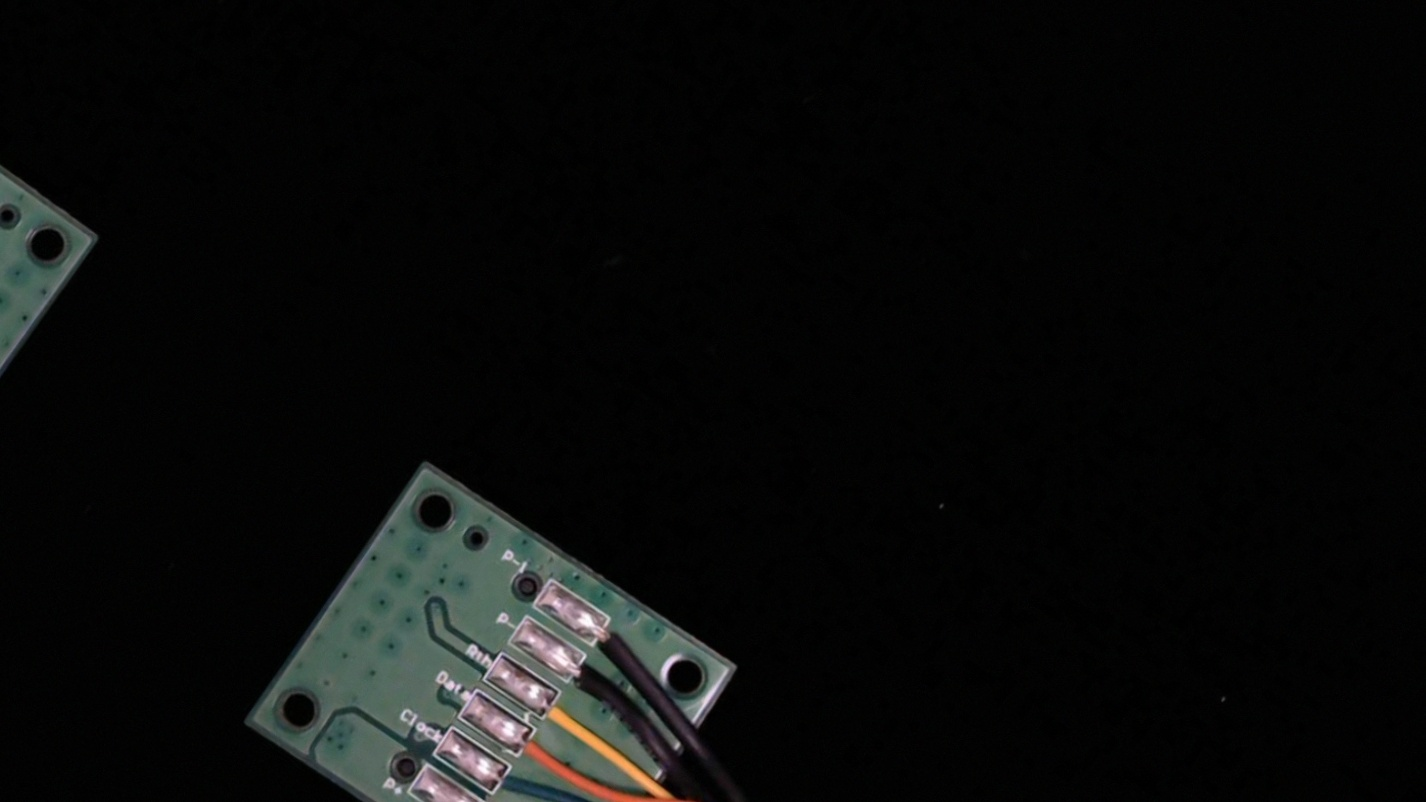Black: (553, 648, 633, 717)
Black1: (578, 609, 654, 676)
Green: (477, 756, 555, 802)
Orange: (504, 722, 585, 793)
Red: (454, 793, 531, 802)
Yellow: (527, 684, 606, 754)
